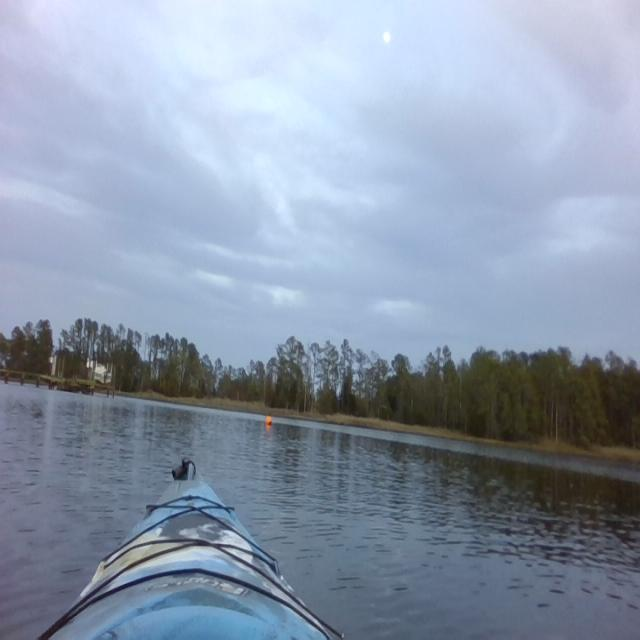Buoy: (265, 414, 273, 426)
